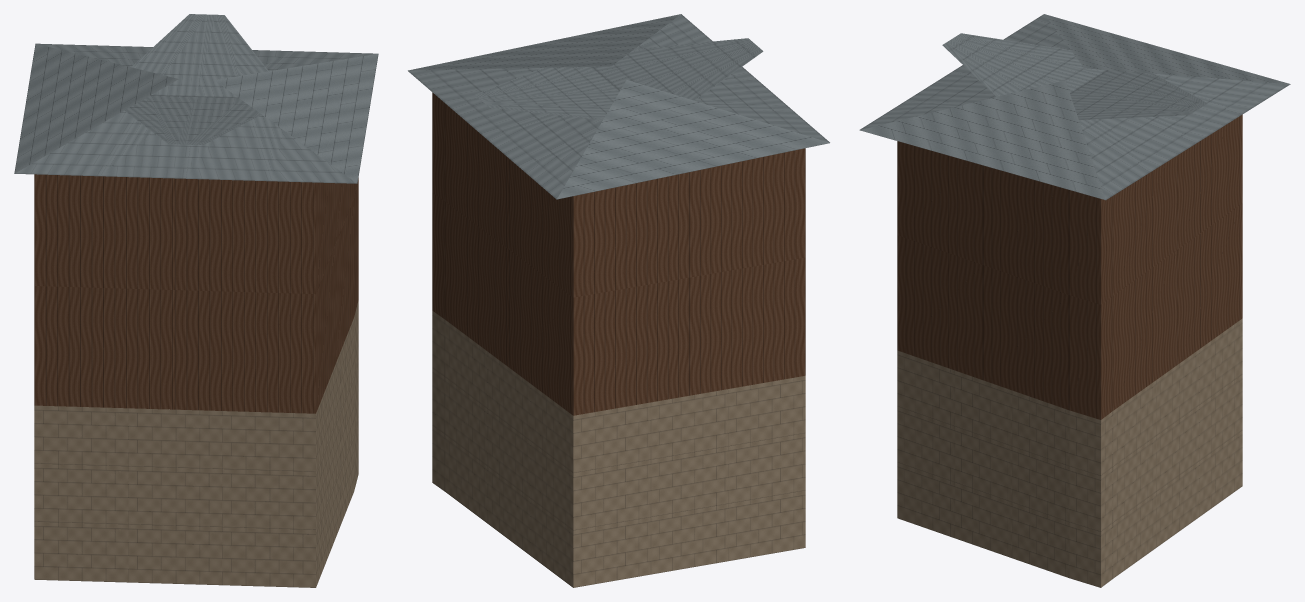
The model's file is bld_c23_-48_526.gltf.
3 renders of one model, left to right at view 1: azimuth 30°, elevation 25°; view 2: azimuth 150°, elevation 25°; view 3: azimuth 270°, elevation 25°, orthographic. The views are drawn at different scales.
Parts seen in each view (by area): view 1: bld_c23_-48_526; view 2: bld_c23_-48_526; view 3: bld_c23_-48_526.
Boxes of the visible parts, x1=… form: bld_c23_-48_526: x1=14, y1=14, x2=378, y2=587; bld_c23_-48_526: x1=408, y1=14, x2=829, y2=587; bld_c23_-48_526: x1=859, y1=14, x2=1290, y2=587.
Bounding box in the file's own units: 12.14 × 13.1 × 11.89.
Materials: 3 (3 with a texture image).
